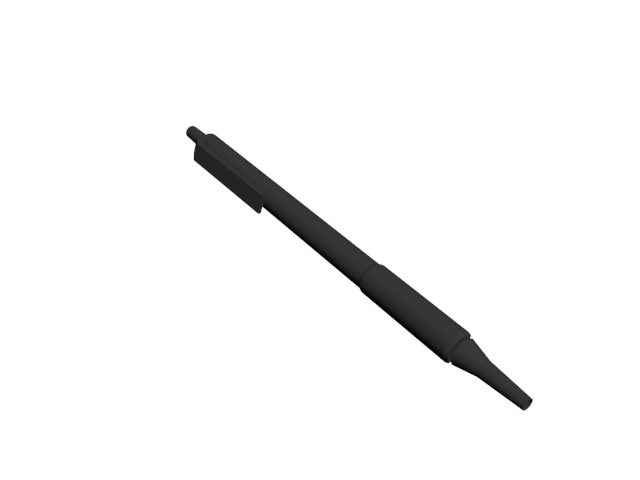pen: (185, 121, 536, 416)
